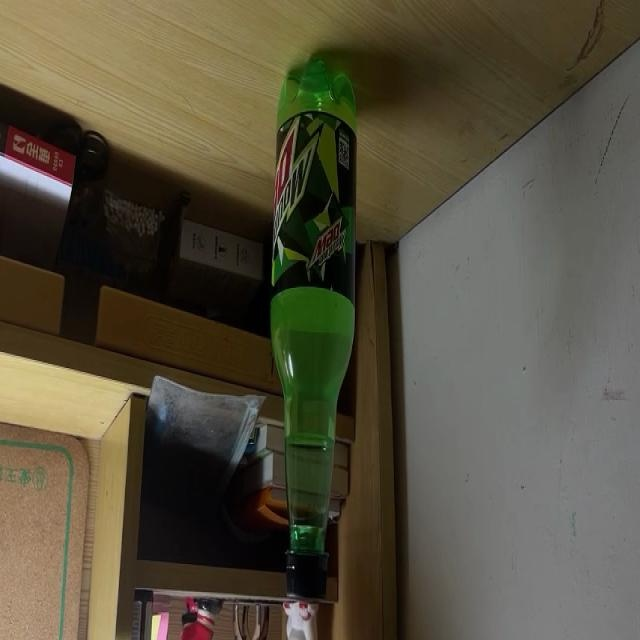Mountain-Dew: (270, 51, 355, 602)
